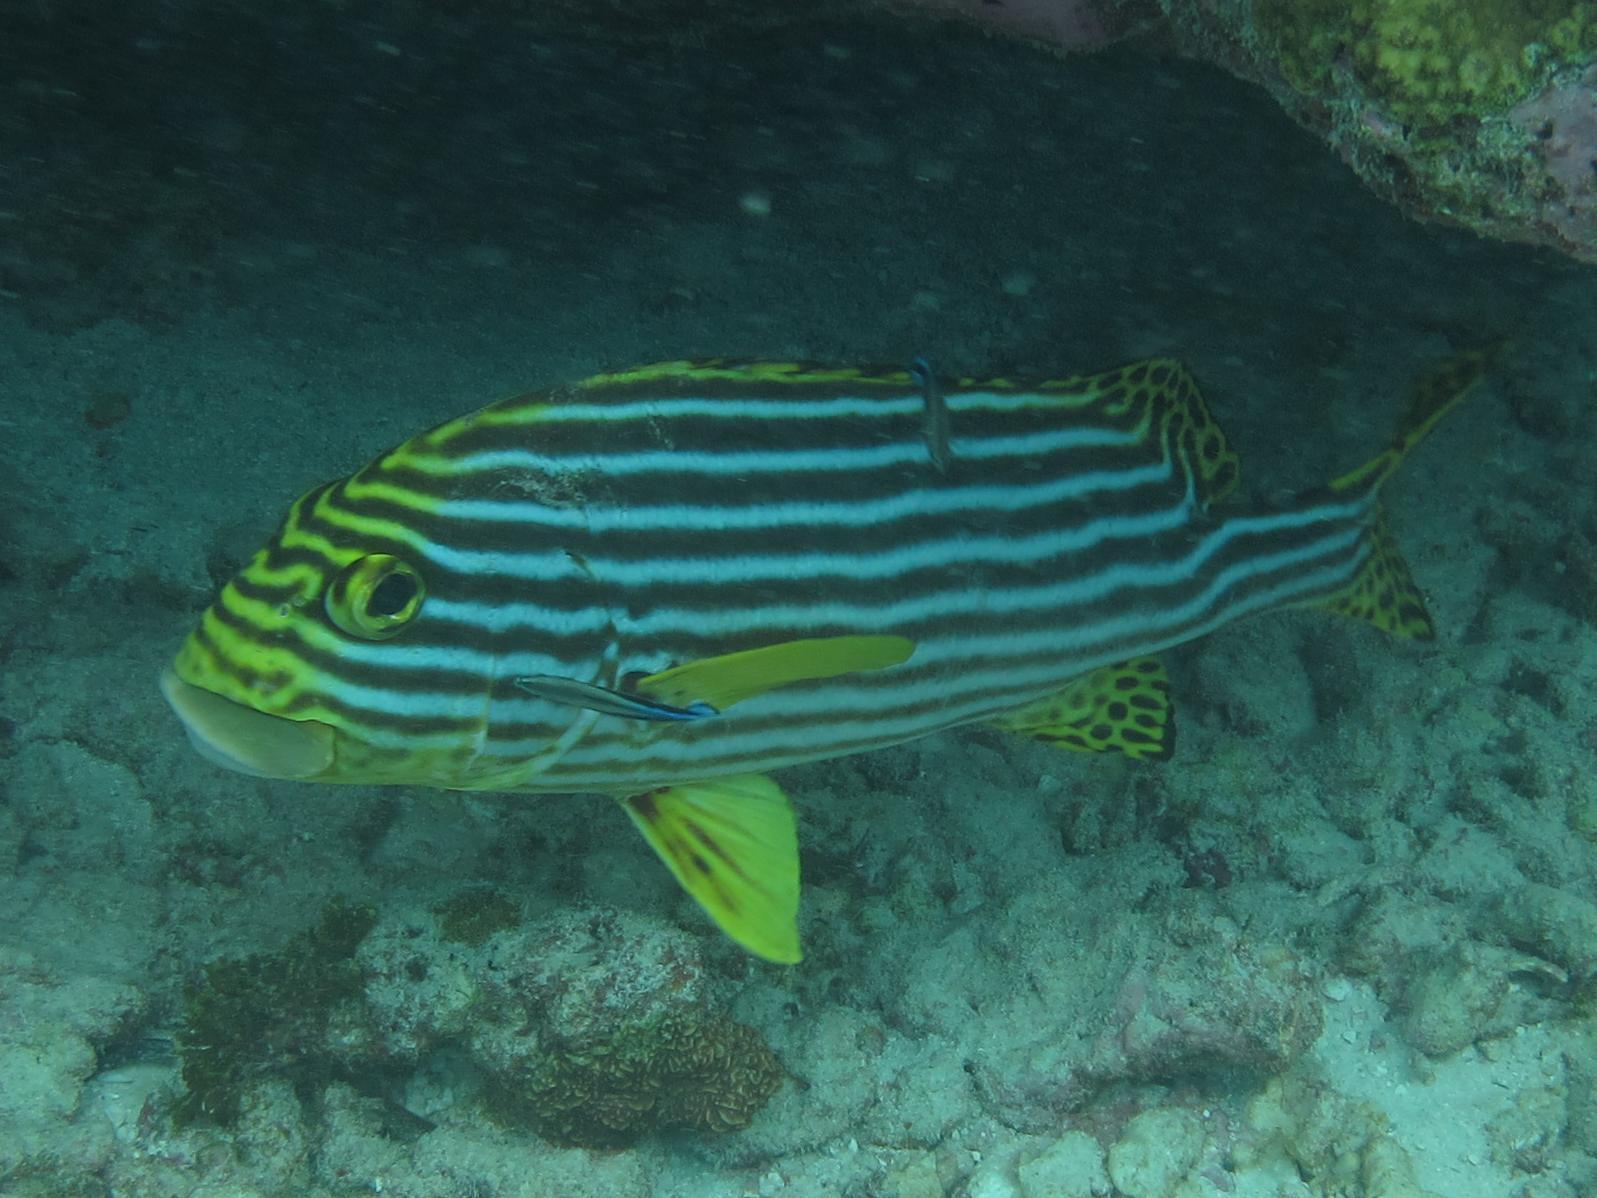Fish: (116, 342, 1597, 998)
